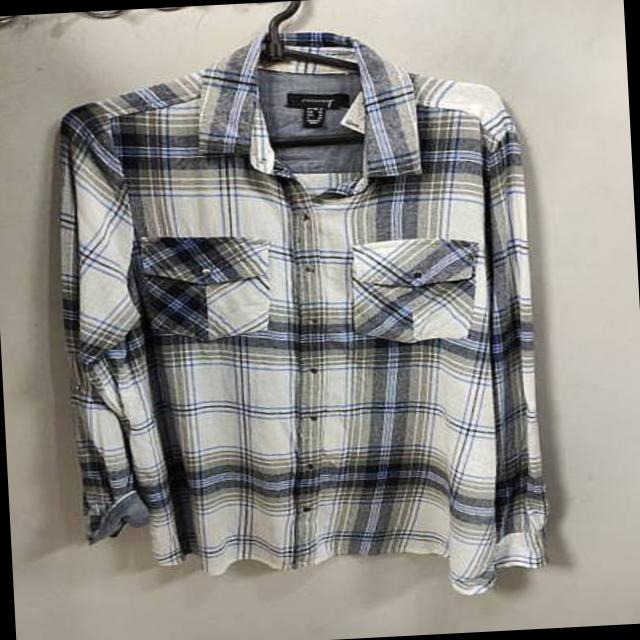SHIRT: (20, 2, 640, 625)
